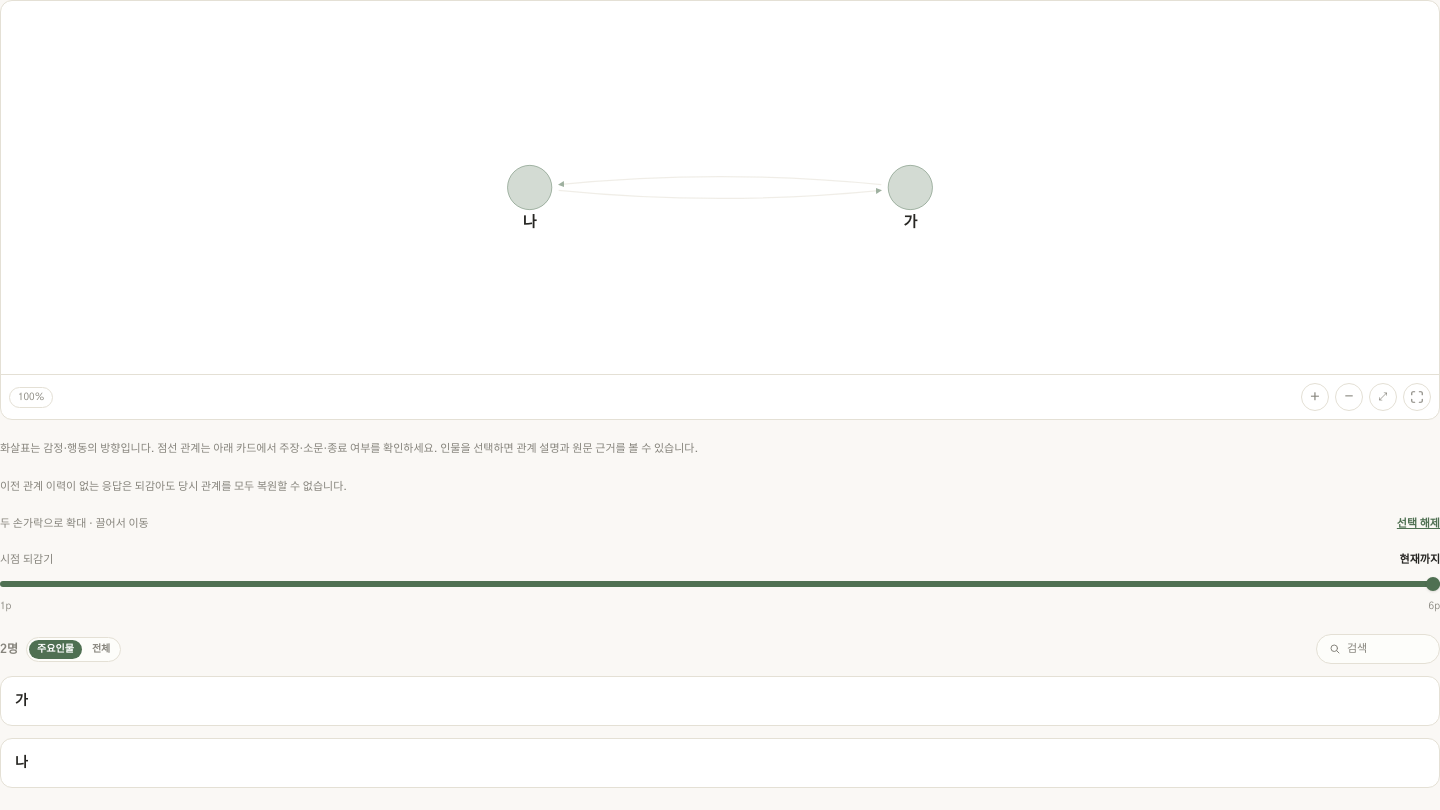
FR-CHR-001: UUID 슬롯 대신 명시된 방향을 그리고 평행 관계를 모두 보여준다
Click the button "가" at (21, 701), box [0,676,1439,726]
(page scrolled)
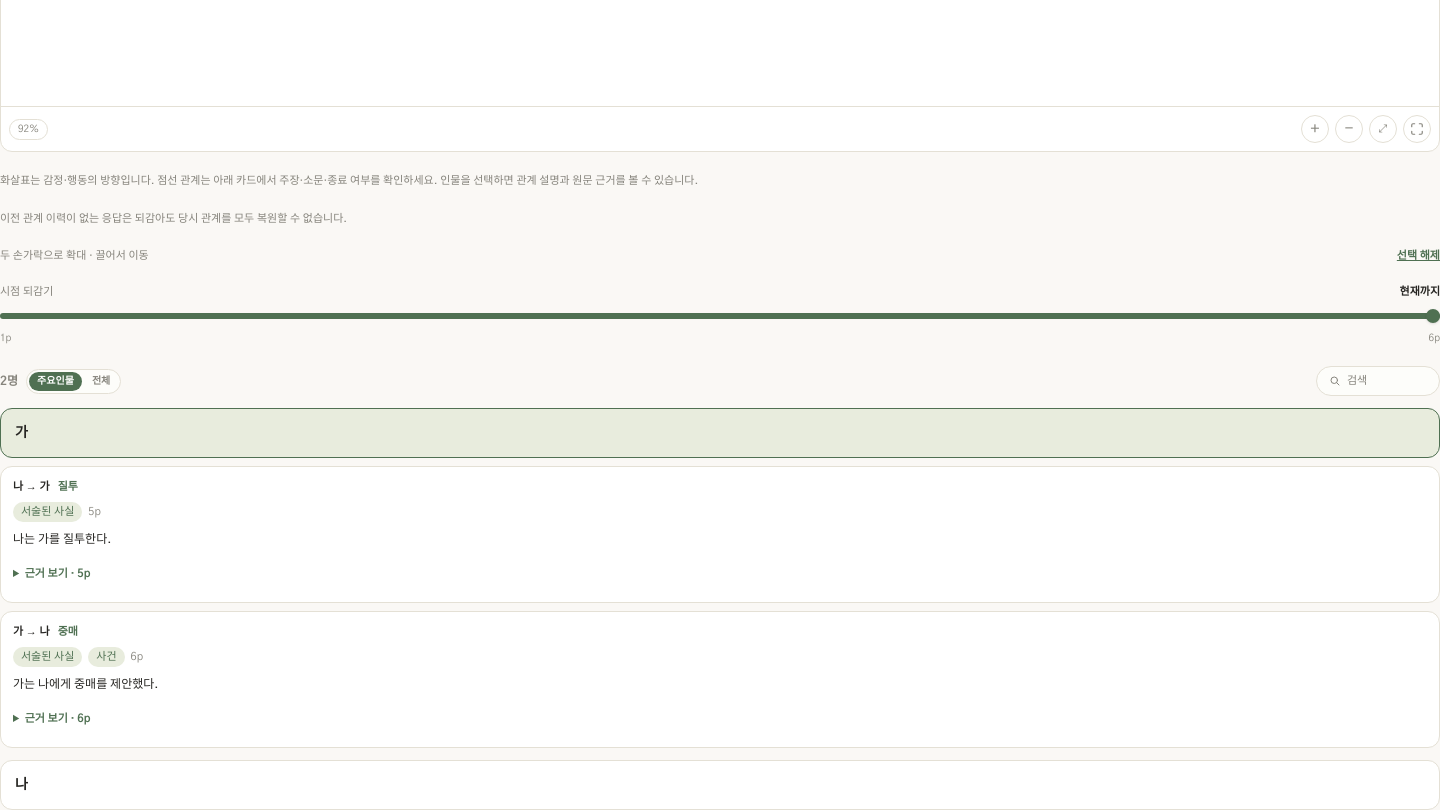
Now the text "나 → 가" is shown, box [13,479,50,496]
Now the text "가 → 나" is shown, box [13,624,50,641]
Now the text "나는 가를 질투한다." is shown, box [13,533,111,545]
